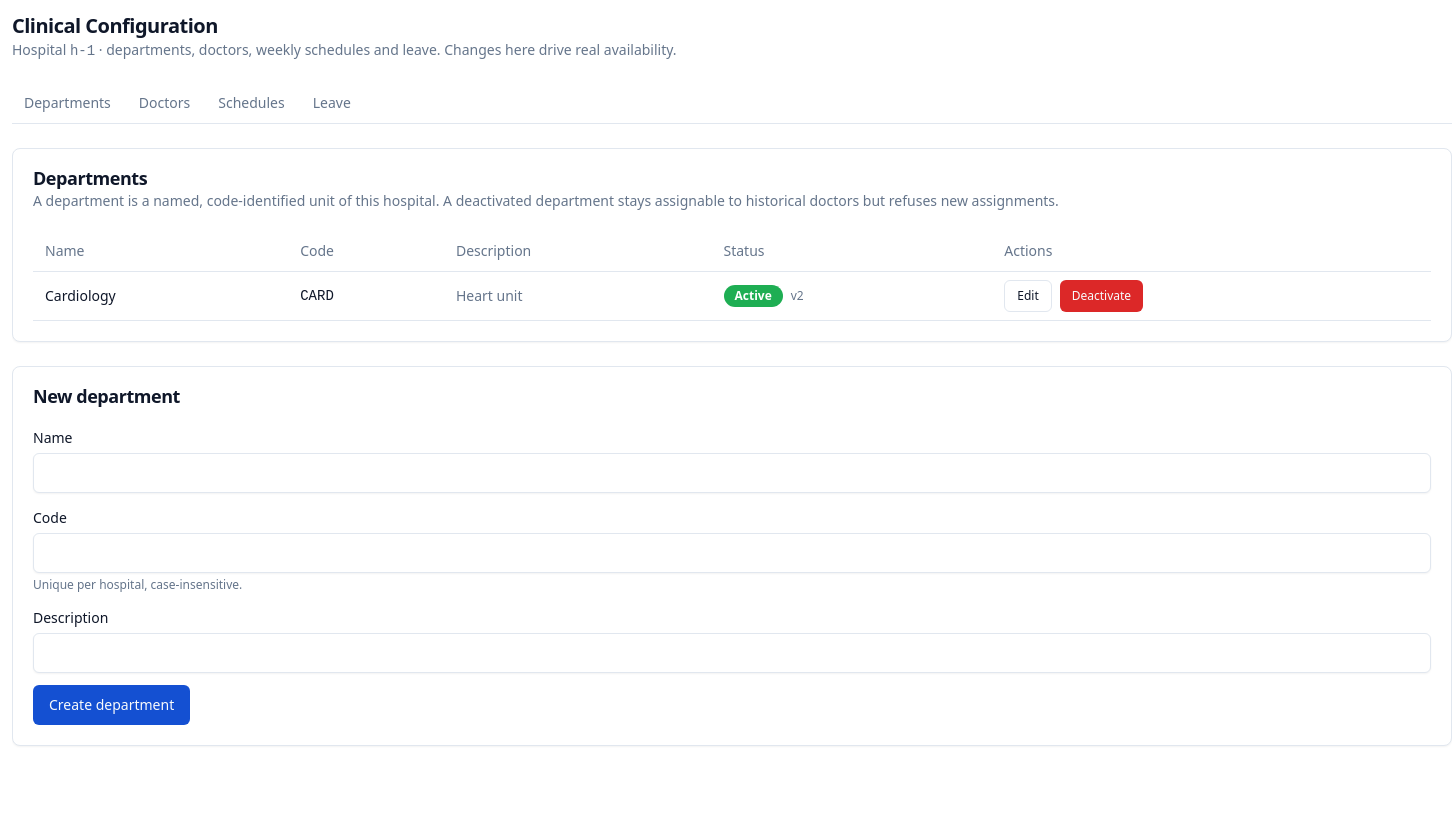
it: surfaces a 409 concurrency conflict verbatim and never as a success
The width and height of the screenshot is (1452, 822).
expect the text "Cardiology" is shown: met, box top-left (33, 271), bottom-right (288, 320)
Click the button with test id "cc-dept-status-CARD": (1101, 296) top-left (1060, 280), bottom-right (1143, 312)
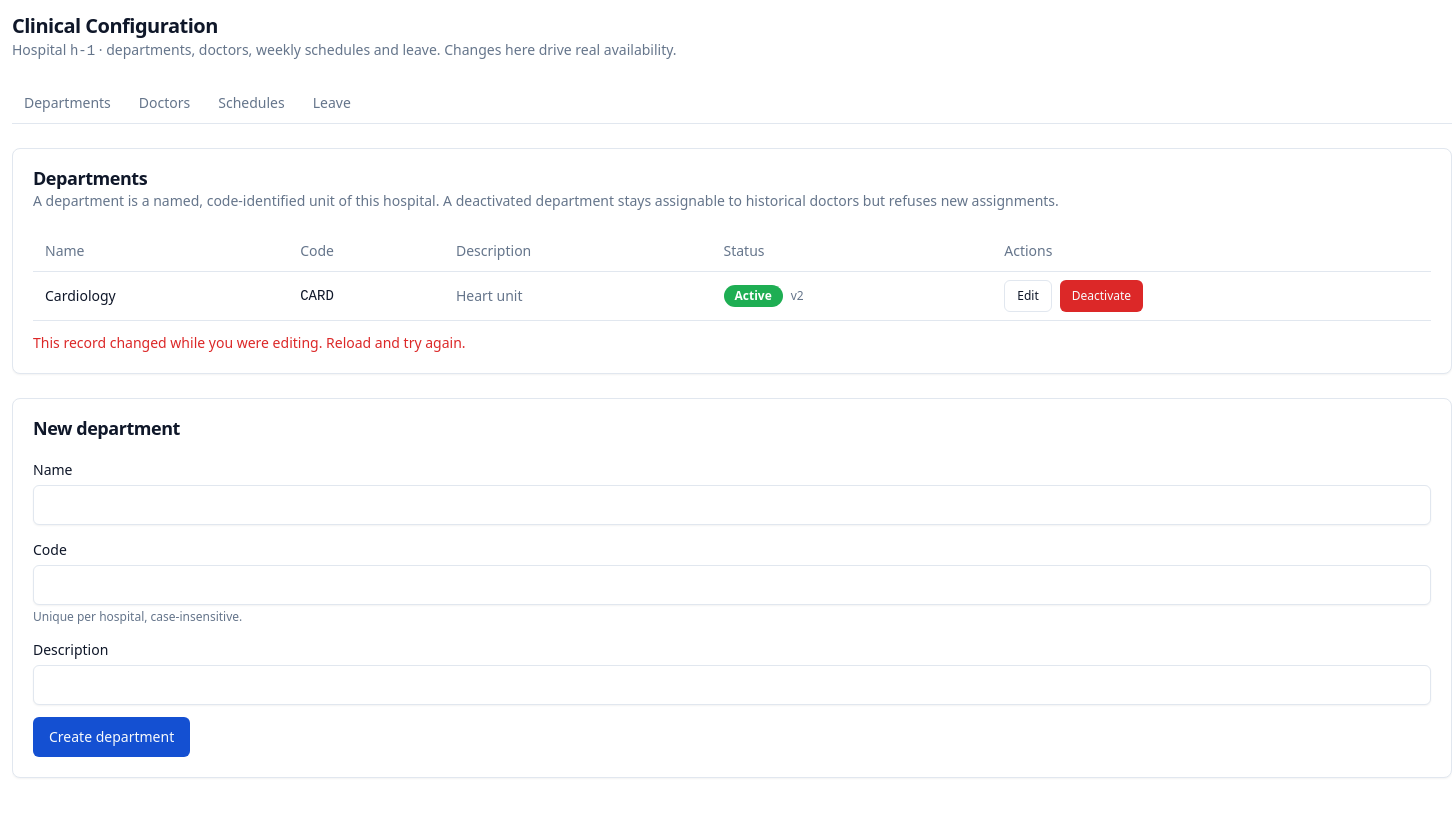
expect the message shows "changed while you were editing": met, box top-left (33, 332), bottom-right (466, 352)
